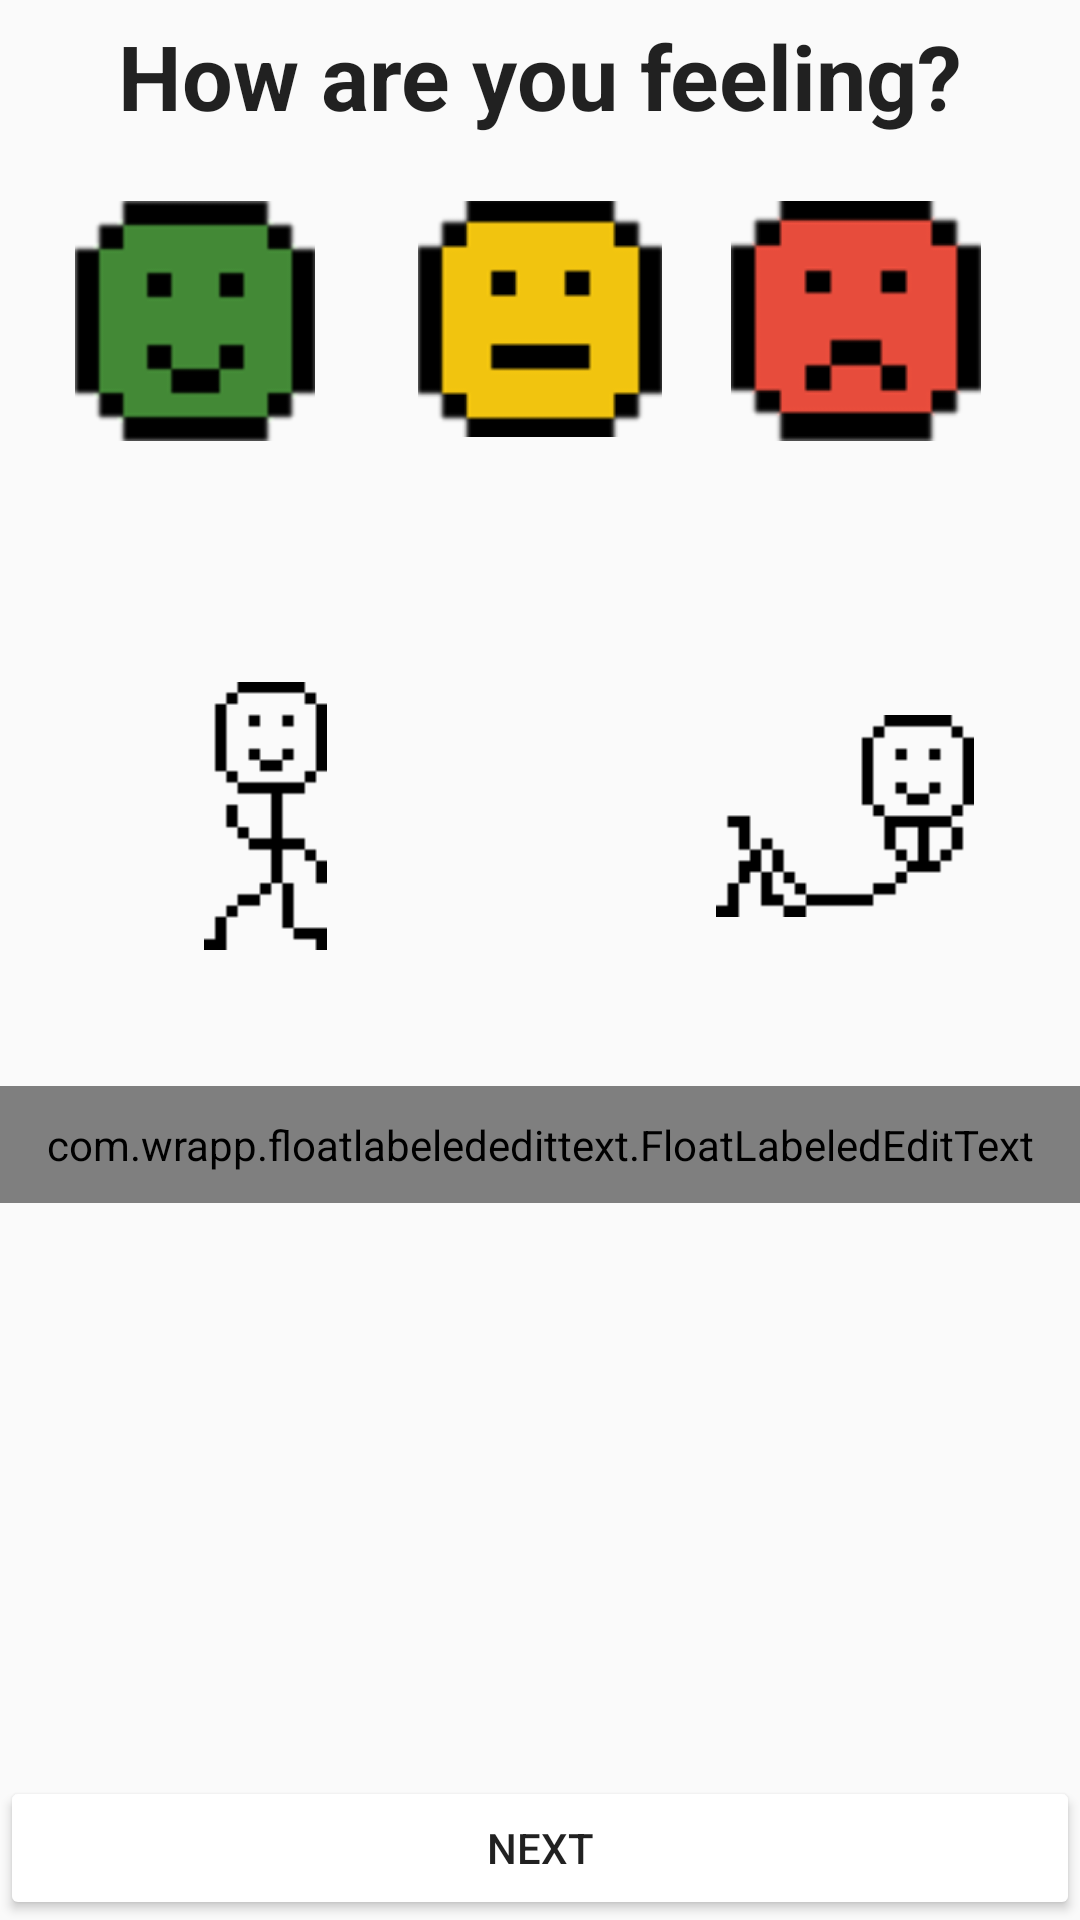

Icon click points for this 1080px x 1920px phone screenshot, format (x,y):
happy: (195,321)
